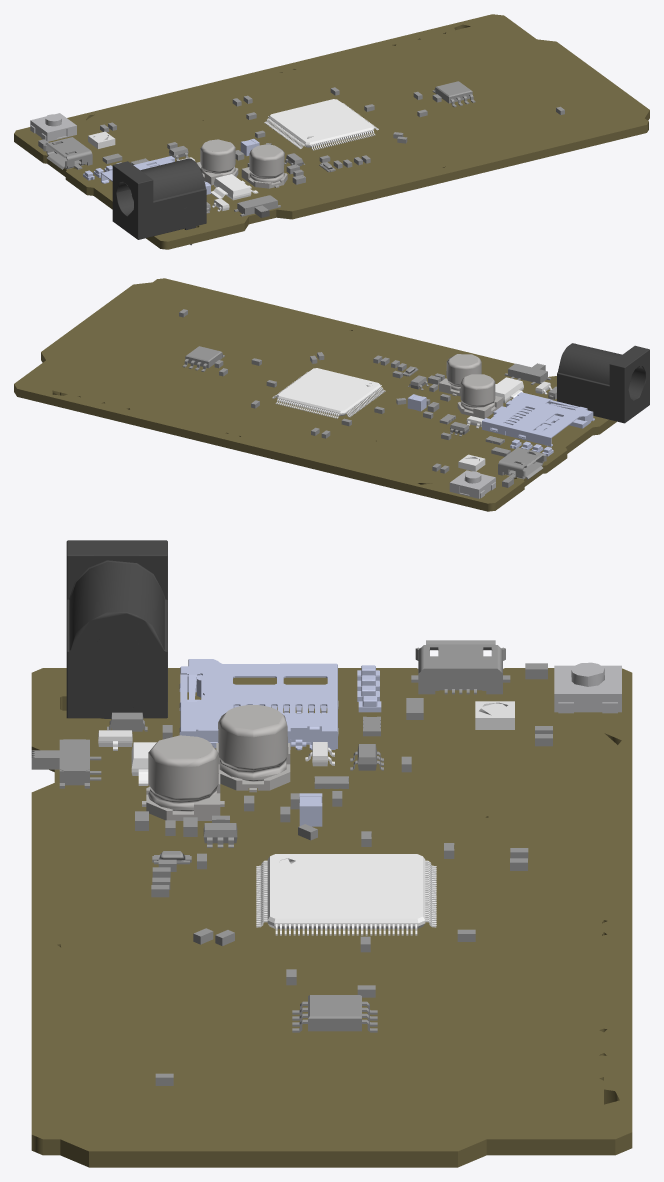
Rendered from ada-4064.glb.
3 renders of one model, top to bottom at view 1: azimuth 30°, elevation 25°; view 2: azimuth 150°, elevation 25°; view 3: azimuth 270°, elevation 25°, orthographic. The views are drawn at different scales.
Visible parts, largest first — view 1: 0.16666666666666666_0.16666666666666666_0.08333333333333333_, 0.08333333333333333_0.08333333333333333_0.08333333333333333_, 0.3333333333333333_0.3333333333333333_0.3333333333333333_0, 1_1_1_0.85, 0.5_0.5_0.5_0.85, 0.5833333333333334_0.5833333333333334_0.5833333333333334_0.8, 0.5833333333333334_0.6666666666666666_0.8333333333333334_0, 0.9166666666666666_0.9166666666666666_0.9166666666666666_0.8; view 2: 0.16666666666666666_0.16666666666666666_0.08333333333333333_, 0.08333333333333333_0.08333333333333333_0.08333333333333333_, 0.3333333333333333_0.3333333333333333_0.3333333333333333_0, 0.5833333333333334_0.6666666666666666_0.8333333333333334_0, 1_1_1_0.85, 0.5_0.5_0.5_0.85, 0.5833333333333334_0.5833333333333334_0.5833333333333334_0.8, 0.9166666666666666_0.9166666666666666_0.9166666666666666_0.8; view 3: 0.16666666666666666_0.16666666666666666_0.08333333333333333_, 0.3333333333333333_0.3333333333333333_0.3333333333333333_0, 0.08333333333333333_0.08333333333333333_0.08333333333333333_, 1_1_1_0.85, 0.5833333333333334_0.6666666666666666_0.8333333333333334_0, 0.5_0.5_0.5_0.85, 0.5833333333333334_0.5833333333333334_0.5833333333333334_0.8, 0.9166666666666666_0.9166666666666666_0.9166666666666666_0.8.
Part boxes in pixels (<box>): 0.16666666666666666_0.16666666666666666_0.08333333333333333_: <box>14,14,649,249</box>; 0.08333333333333333_0.08333333333333333_0.08333333333333333_: <box>112,158,206,245</box>; 0.3333333333333333_0.3333333333333333_0.3333333333333333_0: <box>38,81,564,217</box>; 1_1_1_0.85: <box>211,99,378,200</box>; 0.5_0.5_0.5_0.85: <box>197,139,287,188</box>; 0.5833333333333334_0.5833333333333334_0.5833333333333334_0.8: <box>30,113,76,141</box>; 0.5833333333333334_0.6666666666666666_0.8333333333333334_0: <box>83,138,259,194</box>; 0.9166666666666666_0.9166666666666666_0.9166666666666666_0.8: <box>88,131,229,211</box>; 0.16666666666666666_0.16666666666666666_0.08333333333333333_: <box>14,278,616,511</box>; 0.08333333333333333_0.08333333333333333_0.08333333333333333_: <box>557,343,649,423</box>; 0.3333333333333333_0.3333333333333333_0.3333333333333333_0: <box>179,309,556,487</box>; 0.5833333333333334_0.6666666666666666_0.8333333333333334_0: <box>407,392,594,456</box>; 1_1_1_0.85: <box>272,368,523,418</box>; 0.5_0.5_0.5_0.85: <box>439,354,503,418</box>; 0.5833333333333334_0.5833333333333334_0.5833333333333334_0.8: <box>449,470,495,498</box>; 0.9166666666666666_0.9166666666666666_0.9166666666666666_0.8: <box>458,381,551,471</box>; 0.16666666666666666_0.16666666666666666_0.08333333333333333_: <box>31,668,632,1167</box>; 0.3333333333333333_0.3333333333333333_0.3333333333333333_0: <box>31,640,552,1085</box>; 0.08333333333333333_0.08333333333333333_0.08333333333333333_: <box>66,540,167,718</box>; 1_1_1_0.85: <box>131,742,436,935</box>; 0.5833333333333334_0.6666666666666666_0.8333333333333334_0: <box>179,659,381,826</box>; 0.5_0.5_0.5_0.85: <box>142,705,290,820</box>; 0.5833333333333334_0.5833333333333334_0.5833333333333334_0.8: <box>554,662,621,713</box>; 0.9166666666666666_0.9166666666666666_0.9166666666666666_0.8: <box>98,701,514,766</box>.
Bounding box in the file's own units: 10.49 × 1.45 × 5.34.
